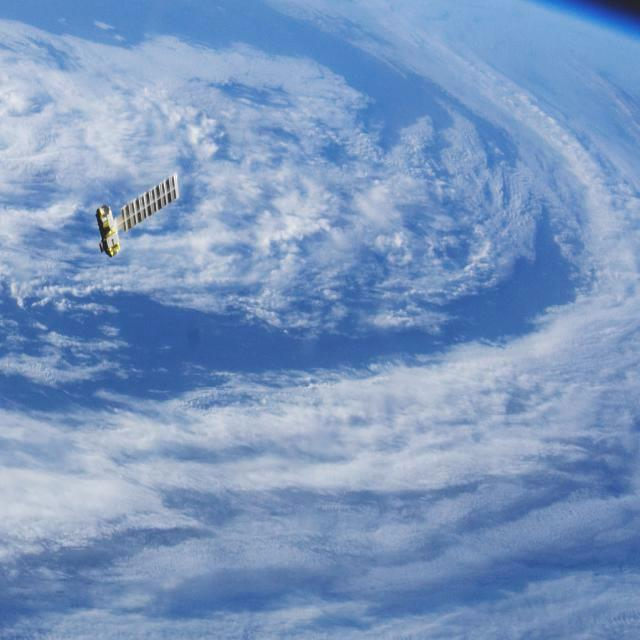satellite: (90, 159, 193, 263)
